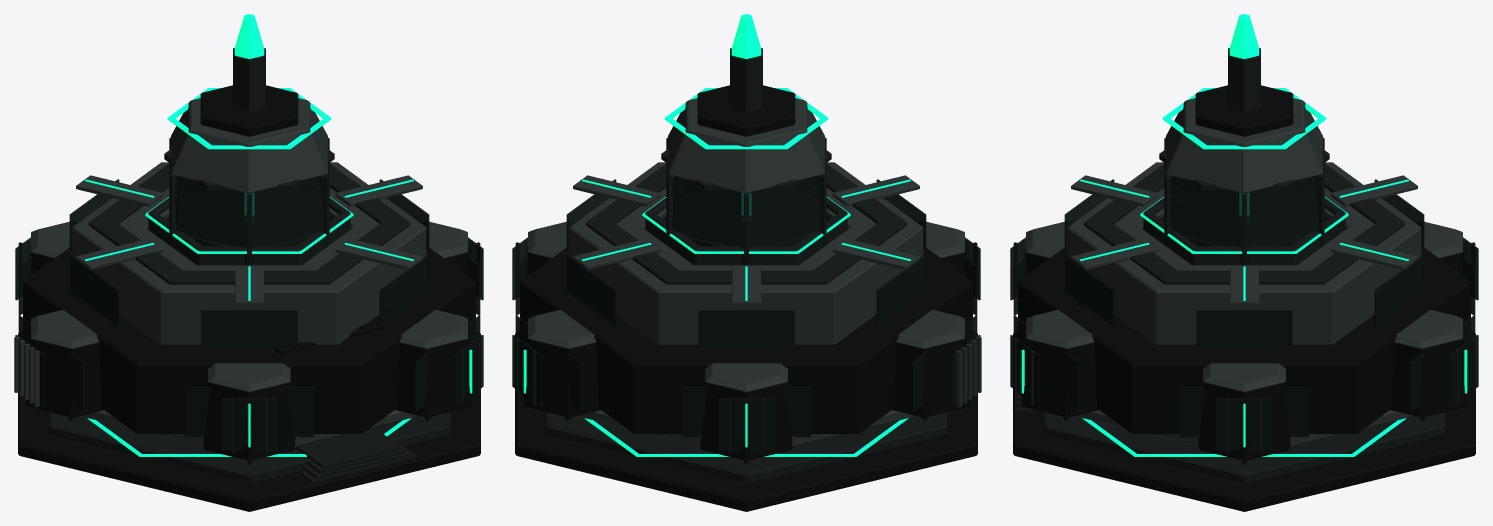
File: academy.glb
3 renders of one model, left to right at view 1: azimuth 30°, elevation 25°; view 2: azimuth 150°, elevation 25°; view 3: azimuth 270°, elevation 25°, orthographic.
Visible parts, largest first — view 1: AC_LowerTerracedAcademicShell, AC_UpperTerracedAcademicShell, AC_Foundation, AC_ObservatoryCrown, AC_ObservatorySmokeGlass, AC_LowerLearningTerrace, AC_AtriumSmokeGlass, AC_ObservationWalkway, AC_AtriumFrame, AC_Classroom_6_Body, AC_AcousticStudio_Body, AC_UpperTerraceGlass_5 (+33 smaller); view 2: AC_LowerTerracedAcademicShell, AC_UpperTerracedAcademicShell, AC_Foundation, AC_LowerLearningTerrace, AC_ObservatoryCrown, AC_ObservatorySmokeGlass, AC_AtriumSmokeGlass, AC_ObservationWalkway, AC_AtriumFrame, AC_Classroom_2_Body, AC_AcousticStudio_Body, AC_UpperTerraceGlass_3 (+28 smaller); view 3: AC_LowerTerracedAcademicShell, AC_UpperTerracedAcademicShell, AC_Foundation, AC_LowerLearningTerrace, AC_ObservatoryCrown, AC_ObservatorySmokeGlass, AC_AtriumSmokeGlass, AC_ObservationWalkway, AC_AtriumFrame, AC_Classroom_2_Body, AC_Classroom_6_Body, AC_UpperTerraceGlass_1 (+29 smaller).
Boxes of the visible parts, left/top/right/bottom form: AC_LowerTerracedAcademicShell: left=23, top=247, right=475, bottom=433; AC_UpperTerracedAcademicShell: left=72, top=162, right=426, bottom=344; AC_Foundation: left=18, top=333, right=480, bottom=511; AC_ObservatoryCrown: left=171, top=98, right=327, bottom=193; AC_ObservatorySmokeGlass: left=175, top=176, right=323, bottom=247; AC_LowerLearningTerrace: left=48, top=412, right=450, bottom=484; AC_AtriumSmokeGlass: left=170, top=189, right=328, bottom=265; AC_ObservationWalkway: left=89, top=164, right=409, bottom=284; AC_AtriumFrame: left=148, top=192, right=350, bottom=265; AC_Classroom_6_Body: left=395, top=333, right=472, bottom=417; AC_AcousticStudio_Body: left=26, top=332, right=103, bottom=417; AC_UpperTerraceGlass_5: left=201, top=310, right=297, bottom=346; AC_LowerTerracedAcademicShell: left=520, top=247, right=972, bottom=433; AC_UpperTerracedAcademicShell: left=569, top=162, right=923, bottom=344; AC_Foundation: left=515, top=333, right=977, bottom=511; AC_LowerLearningTerrace: left=545, top=412, right=947, bottom=484; AC_ObservatoryCrown: left=668, top=98, right=824, bottom=193; AC_ObservatorySmokeGlass: left=672, top=176, right=820, bottom=247; AC_AtriumSmokeGlass: left=667, top=189, right=825, bottom=265; AC_ObservationWalkway: left=586, top=164, right=906, bottom=284; AC_AtriumFrame: left=645, top=192, right=847, bottom=265; AC_Classroom_2_Body: left=523, top=333, right=600, bottom=417; AC_AcousticStudio_Body: left=892, top=332, right=969, bottom=417; AC_UpperTerraceGlass_3: left=698, top=310, right=794, bottom=346; AC_LowerTerracedAcademicShell: left=1018, top=248, right=1470, bottom=433; AC_UpperTerracedAcademicShell: left=1067, top=162, right=1421, bottom=344; AC_Foundation: left=1013, top=333, right=1475, bottom=511; AC_LowerLearningTerrace: left=1043, top=412, right=1445, bottom=484; AC_ObservatoryCrown: left=1166, top=98, right=1322, bottom=193; AC_ObservatorySmokeGlass: left=1170, top=176, right=1318, bottom=247; AC_AtriumSmokeGlass: left=1165, top=189, right=1323, bottom=265; AC_ObservationWalkway: left=1084, top=164, right=1404, bottom=284; AC_AtriumFrame: left=1143, top=192, right=1345, bottom=265; AC_Classroom_2_Body: left=1390, top=332, right=1467, bottom=417; AC_Classroom_6_Body: left=1021, top=332, right=1098, bottom=417; AC_UpperTerraceGlass_1: left=1196, top=310, right=1292, bottom=346.
Bounding box in the file's own units: 47.82 × 38 × 42.03.
